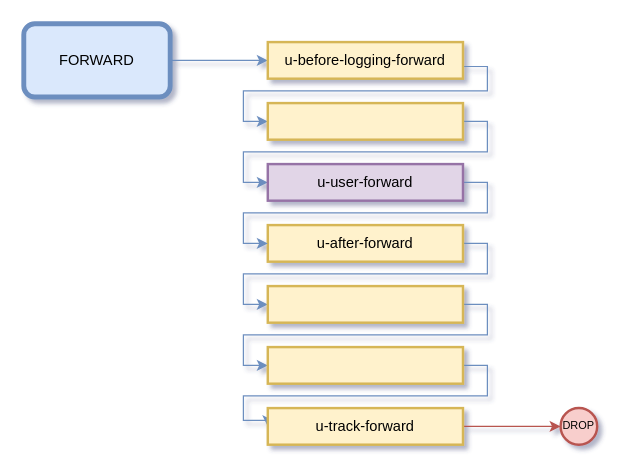
Image size: 626x473. Some labels were removed from this diagram. Here are the shapes that lost their labels. From the top down, the centre of each, then its label:
the point at 365,120: u-before-forward
the point at 365,303: u-after-logging-forward
the point at 365,364: u-reject-forward
